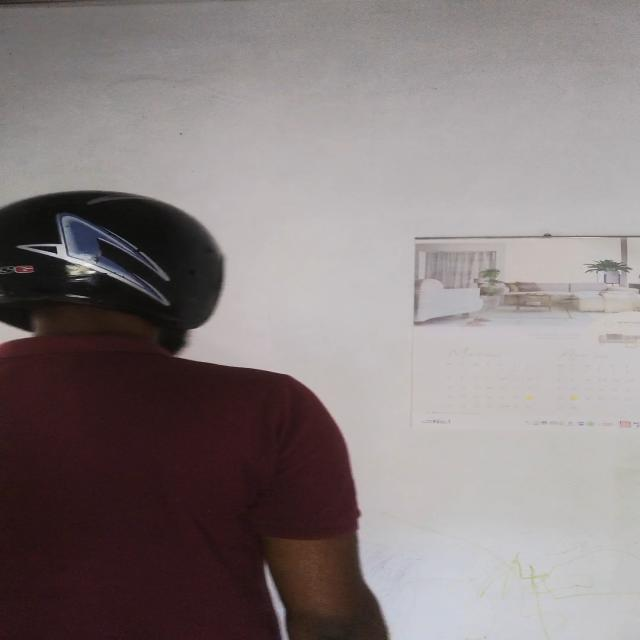Helmet_Wearer: (3, 184, 222, 386)
